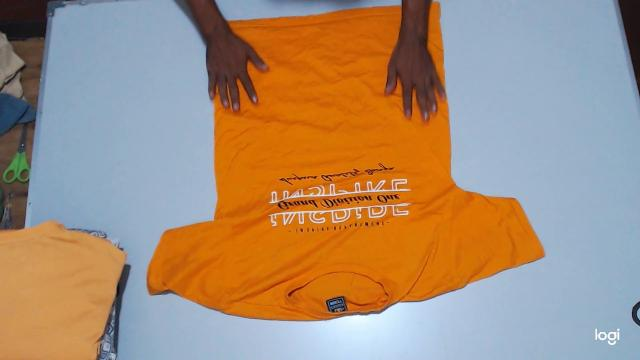new-garment: (147, 6, 544, 320)
